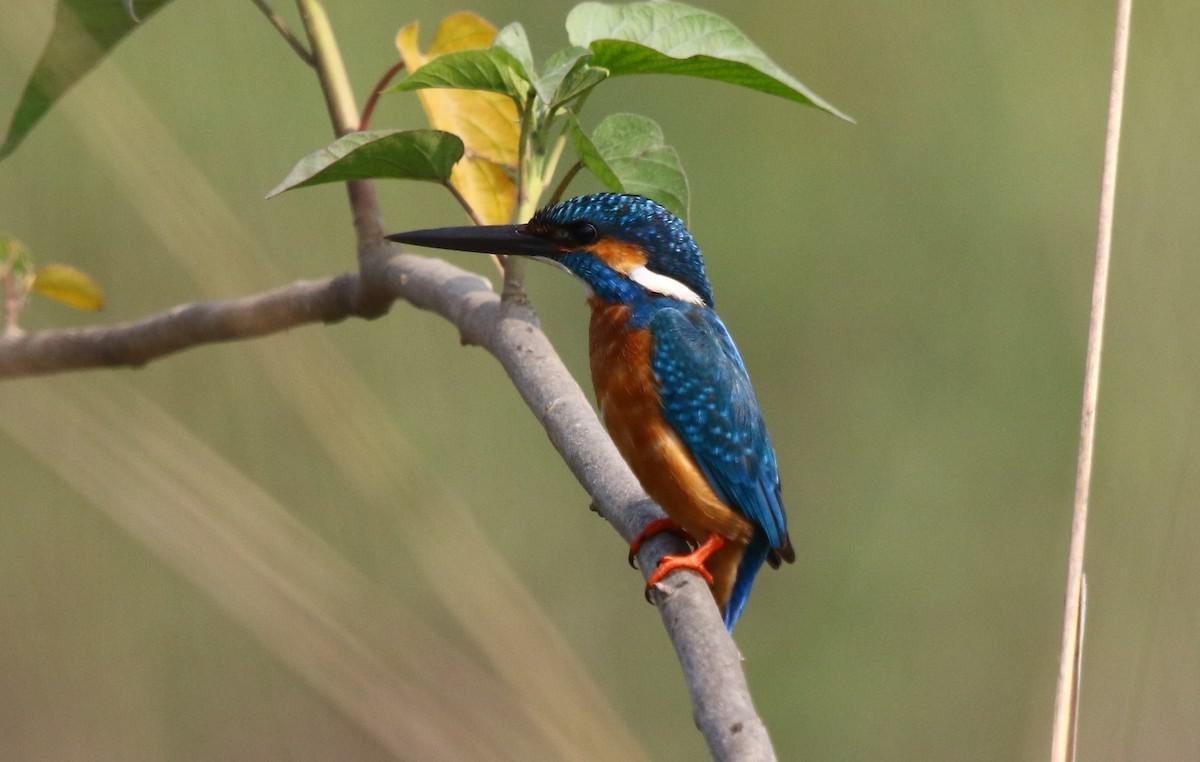kingfisher: (389, 155, 847, 681)
